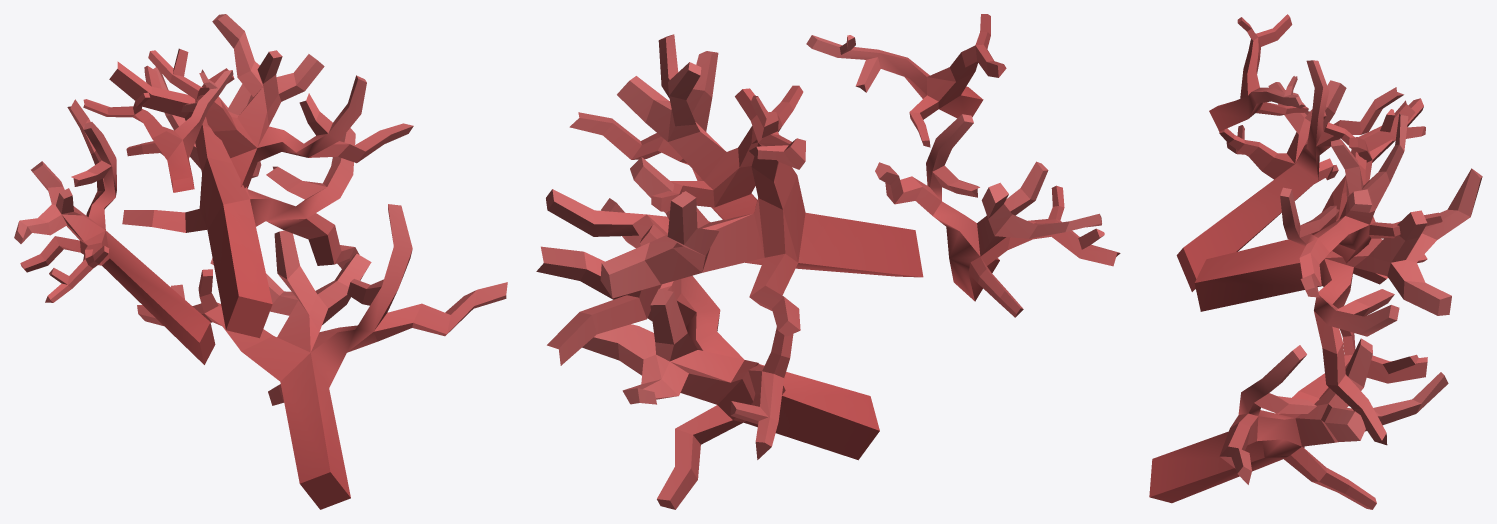
File: Coral_07.FBX
3 views of the same model, side by side, from view 1: azimuth 30°, elevation 25°; view 2: azimuth 150°, elevation 25°; view 3: azimuth 270°, elevation 25° (orthographic). The views are drawn at different scales.
Parts seen in each view (by area): view 1: Coral_07; view 2: Coral_07; view 3: Coral_07.
Boxes of the visible parts, <box> form: Coral_07: <box>14,14,507,509</box>; Coral_07: <box>536,14,1120,509</box>; Coral_07: <box>1149,14,1482,509</box>.
Size of the model in its own units: 8.43 by 7.17 by 5.18.
